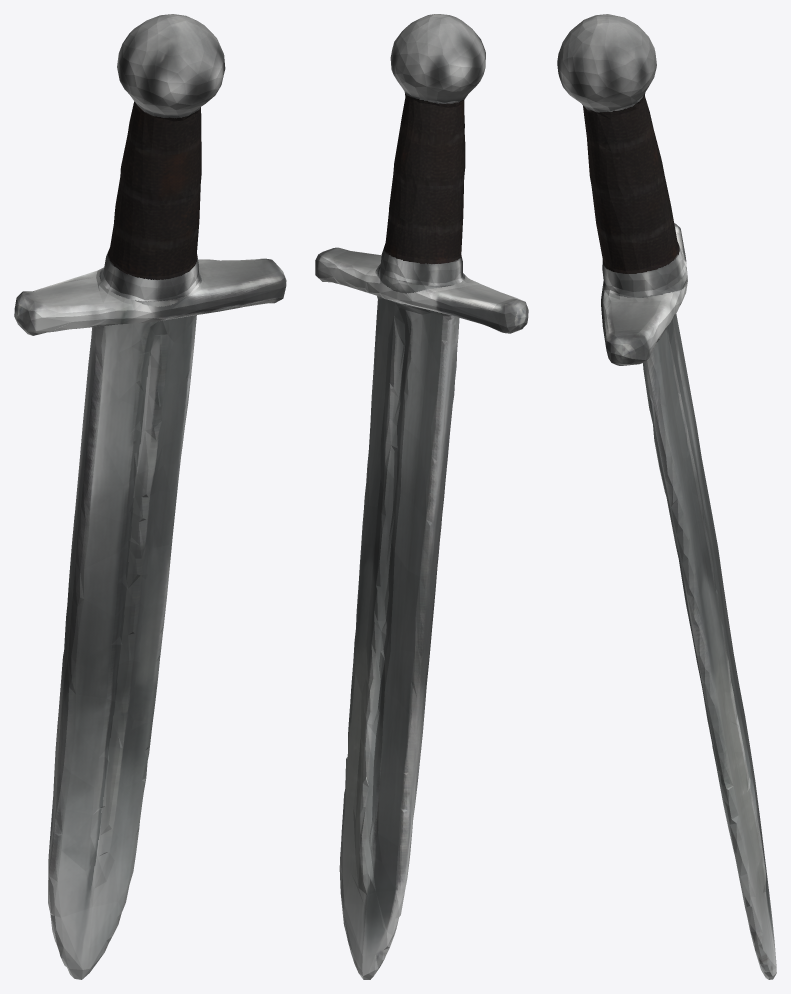
Rendered from sword.fbx.
3 views of the same model, side by side, from view 1: azimuth 30°, elevation 25°; view 2: azimuth 150°, elevation 25°; view 3: azimuth 270°, elevation 25° (orthographic). The views are drawn at different scales.
Visible parts, largest first — view 1: Mesh_0; view 2: Mesh_0; view 3: Mesh_0.
Part boxes in pixels (bbox=[...]): Mesh_0: bbox=[14, 14, 286, 979]; Mesh_0: bbox=[315, 14, 528, 979]; Mesh_0: bbox=[557, 14, 776, 979].
Bounding box in the file's own units: 0.2553 × 1 × 0.2068.
Materials: 1 (1 with a texture image).
